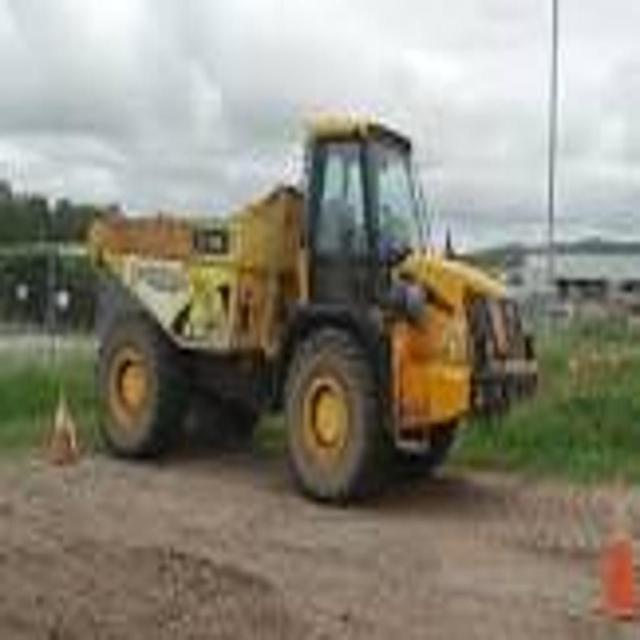dump_truck: (84, 104, 539, 512)
